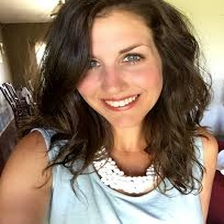no_mask: (72, 16, 161, 123)
